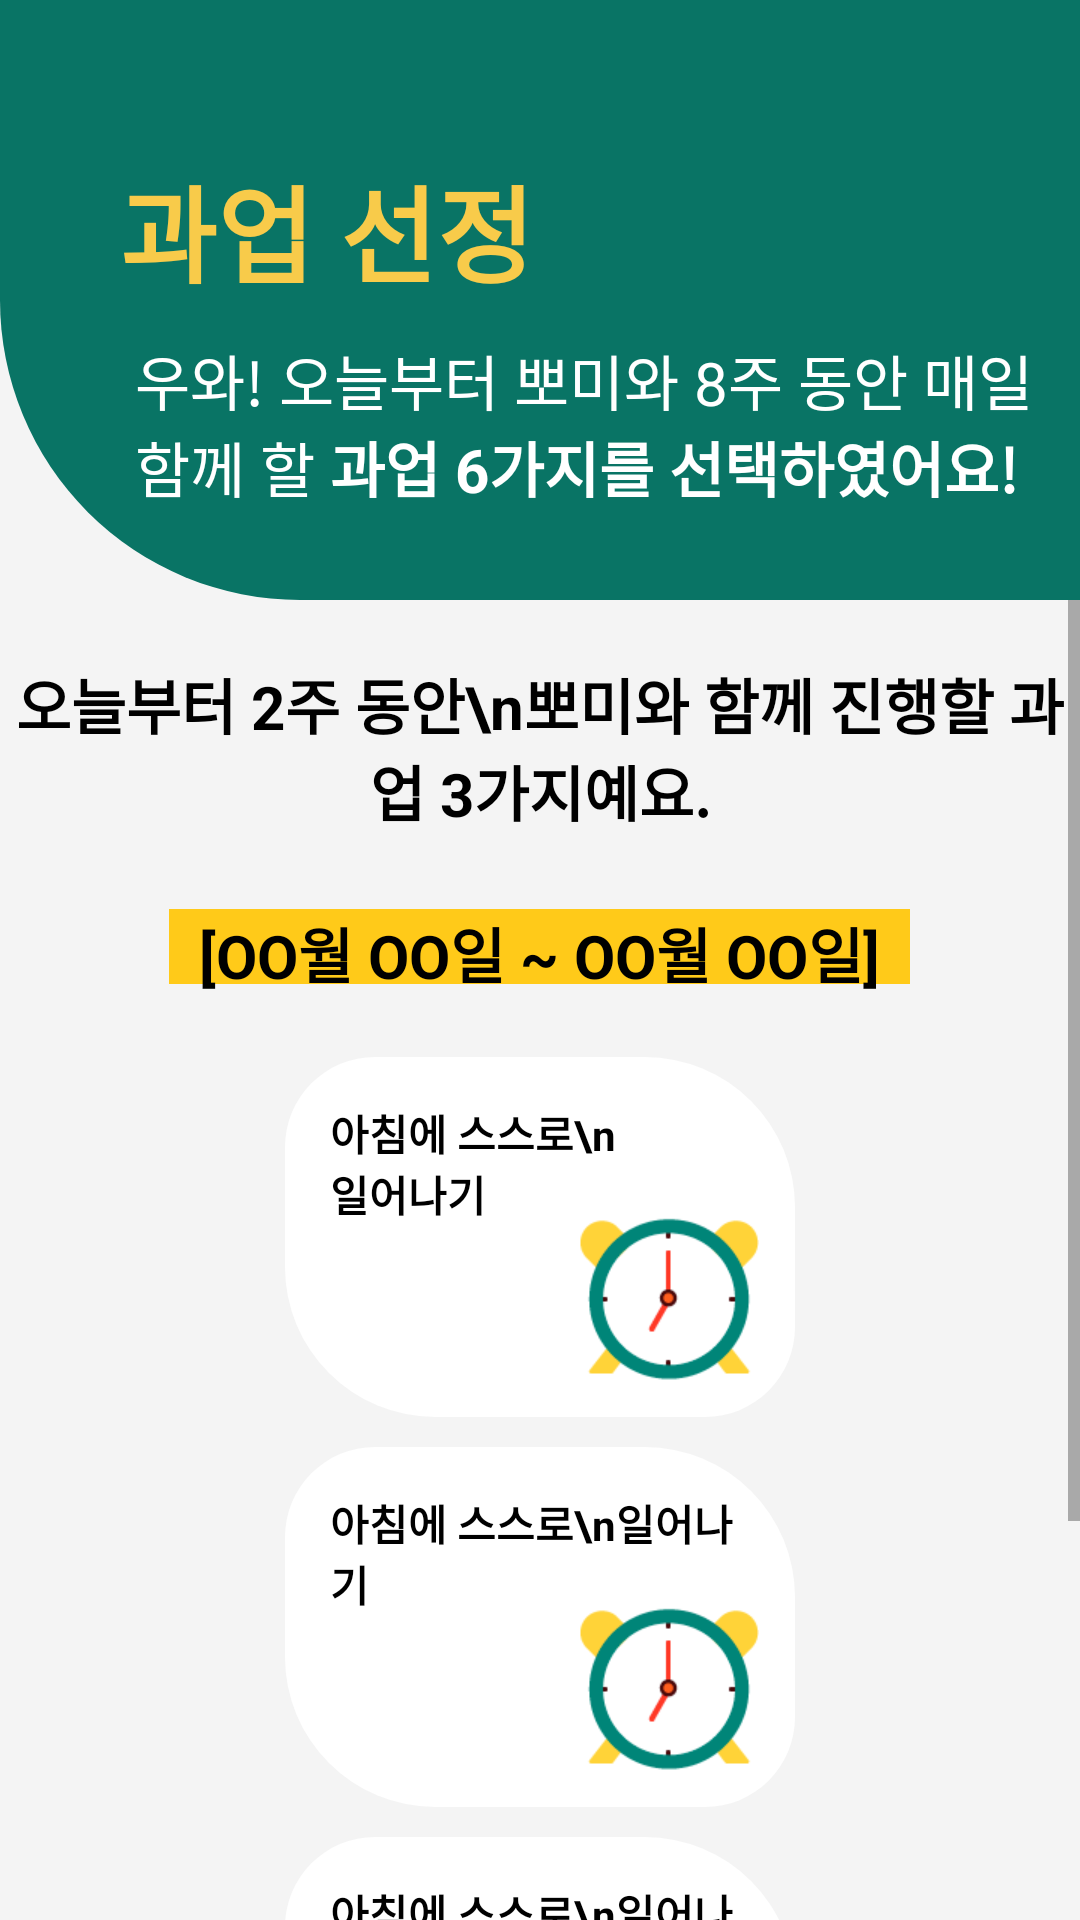

Named icons in this screenshot (1080px x 1920px) and their bounding boxes, bbox=[x1, y1, x2, y2]:
wakeup: bbox=[580, 1218, 759, 1380], bbox=[580, 1608, 759, 1770]
